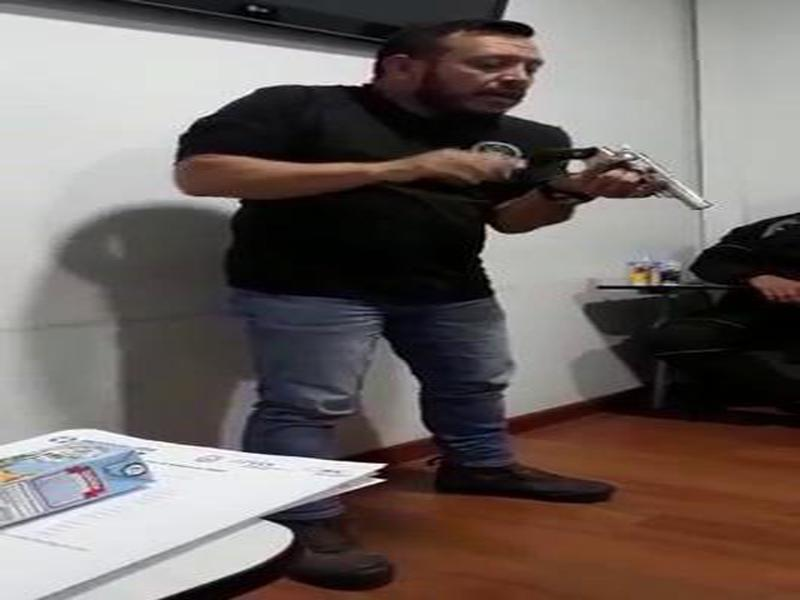Revolver: (531, 129, 740, 244)
